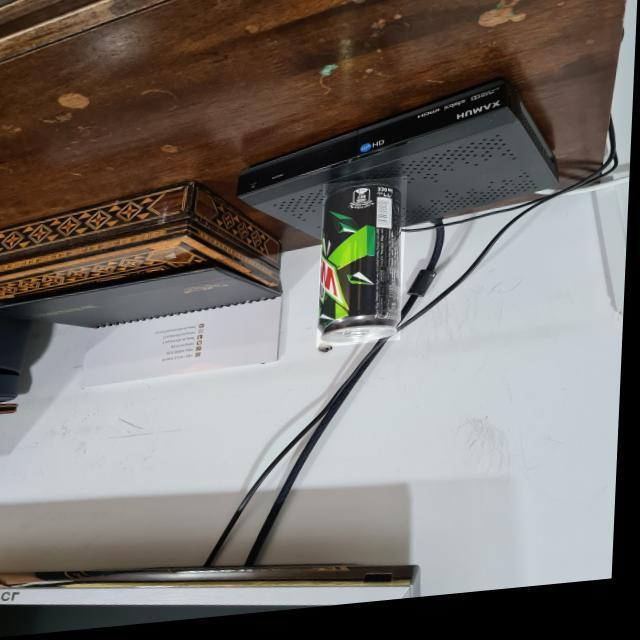trash: (318, 176, 404, 352)
